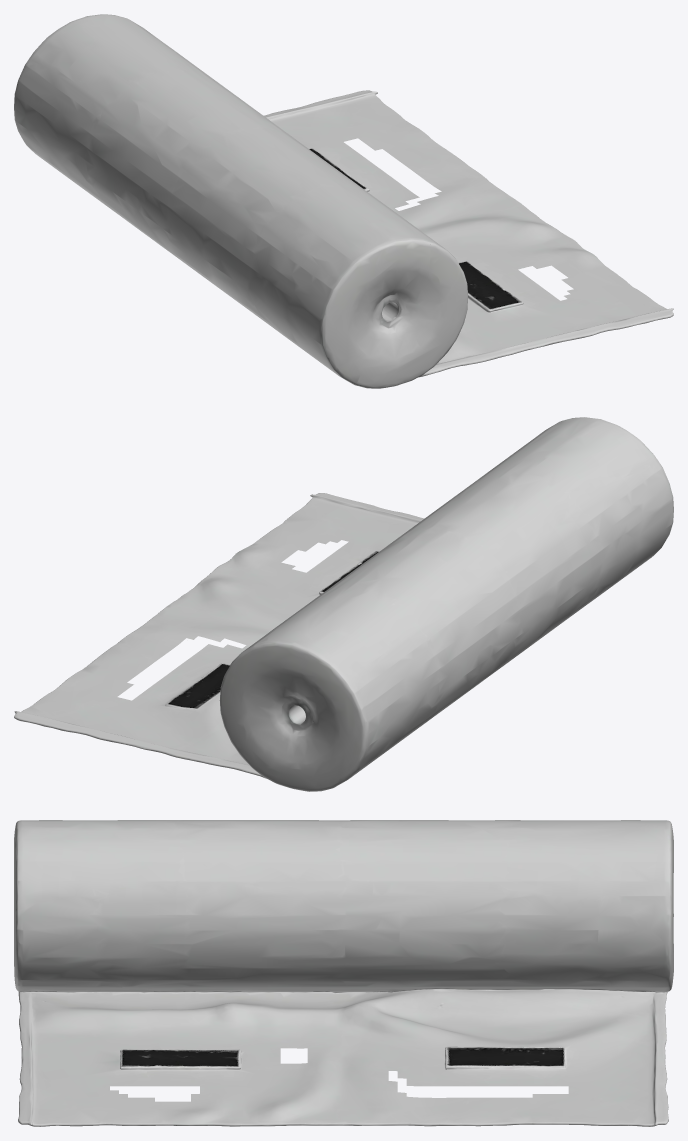
Rendered from waterproof-protective-film.glb.
3 renders of one model, top to bottom at view 1: azimuth 30°, elevation 25°; view 2: azimuth 150°, elevation 25°; view 3: azimuth 270°, elevation 25°, orthographic. The views are drawn at different scales.
Visible parts, largest first — view 1: tripo_node_01f4d3be-8cb0-4443-a617-173000508d3a; view 2: tripo_node_01f4d3be-8cb0-4443-a617-173000508d3a; view 3: tripo_node_01f4d3be-8cb0-4443-a617-173000508d3a.
Boxes of the visible parts, box(x1,y1,x2,y2) form: tripo_node_01f4d3be-8cb0-4443-a617-173000508d3a: box(14, 14, 673, 388); tripo_node_01f4d3be-8cb0-4443-a617-173000508d3a: box(14, 417, 673, 791); tripo_node_01f4d3be-8cb0-4443-a617-173000508d3a: box(14, 820, 673, 1126).
Bounding box in the file's own units: 0.6621 × 0.2572 × 1.
Materials: 1 (1 with a texture image).
